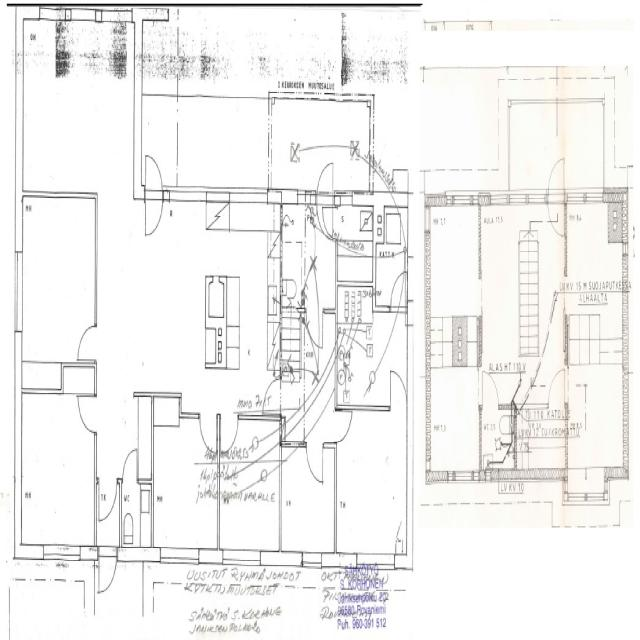door: (121, 479, 153, 550), (142, 148, 164, 237), (546, 153, 566, 239), (95, 547, 119, 596), (95, 475, 118, 524), (546, 362, 569, 409), (75, 318, 98, 362), (198, 410, 220, 456), (218, 411, 240, 456), (76, 390, 98, 433), (316, 157, 336, 203), (479, 366, 500, 409), (388, 367, 408, 408), (305, 441, 324, 484), (334, 404, 354, 444), (121, 443, 140, 485), (262, 376, 282, 415), (319, 201, 338, 239), (390, 267, 407, 309)
window: (12, 246, 24, 336), (505, 189, 545, 207), (573, 187, 604, 206), (299, 547, 323, 570), (448, 192, 477, 208), (451, 467, 475, 485)
zone: (97, 200, 213, 394), (20, 192, 97, 375), (20, 386, 97, 554), (480, 198, 538, 402), (336, 406, 406, 560), (220, 216, 279, 397), (152, 408, 219, 556), (218, 413, 282, 557), (566, 359, 628, 492), (425, 200, 481, 318), (563, 199, 627, 301), (426, 363, 481, 480), (279, 449, 336, 561), (338, 308, 382, 408), (280, 197, 316, 311), (515, 407, 567, 478), (378, 197, 406, 304), (336, 192, 374, 264), (120, 478, 154, 551), (434, 315, 481, 365), (480, 404, 514, 472), (338, 284, 374, 326), (61, 361, 97, 394), (143, 19, 164, 57)
